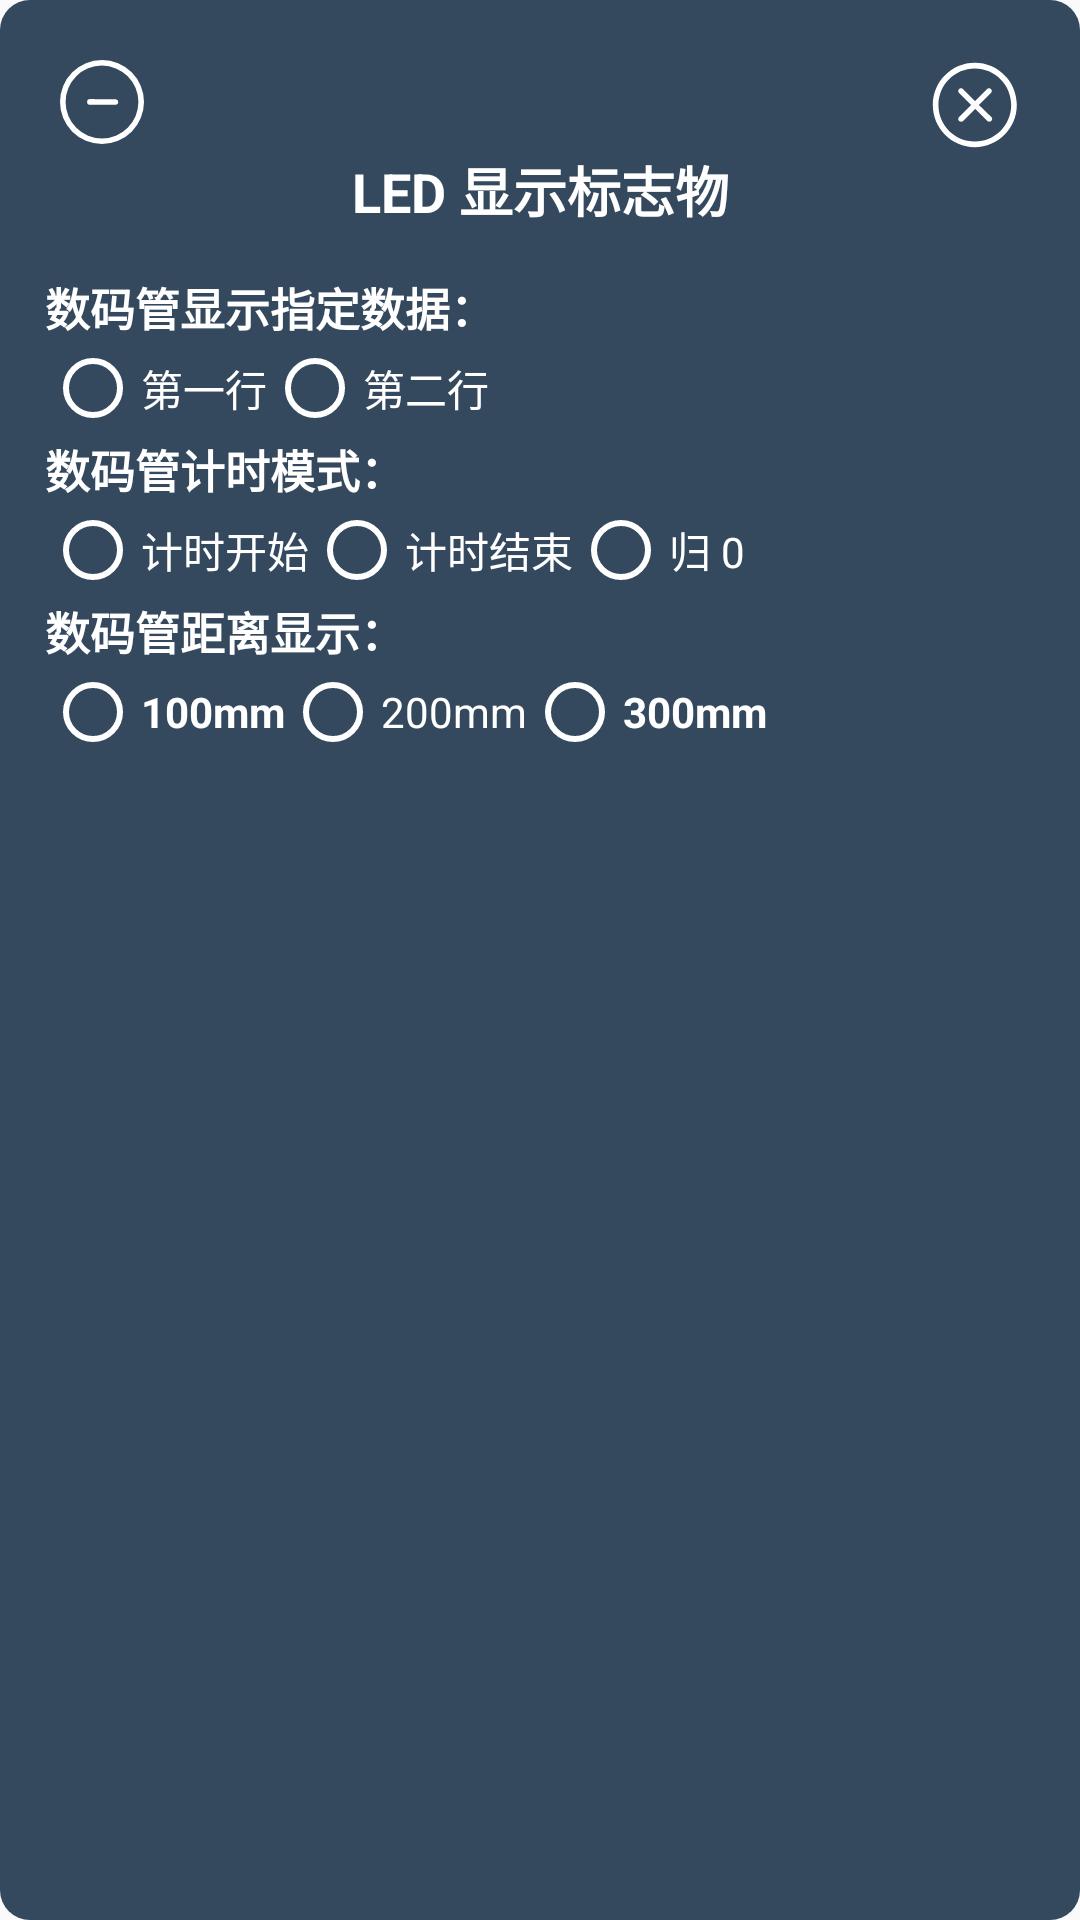

Screen size 1080 × 1920. Icon name, then its center in pixels as point (x, y):
minimize: point (102, 102)
关闭悬浮窗: point (974, 105)
